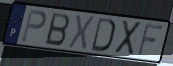B: (44, 12, 71, 48)
D: (90, 16, 117, 53)
F: (136, 22, 165, 58)
P: (20, 8, 48, 44)
X: (67, 13, 97, 52), (113, 19, 142, 57)
